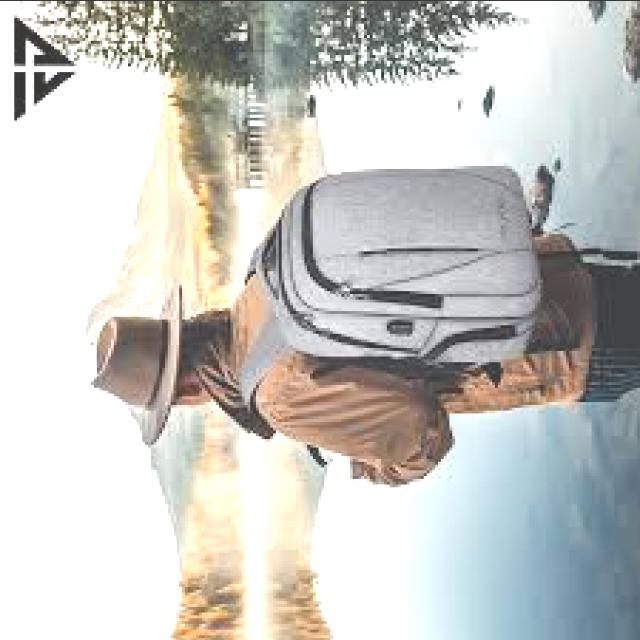backpack: (237, 166, 581, 425)
